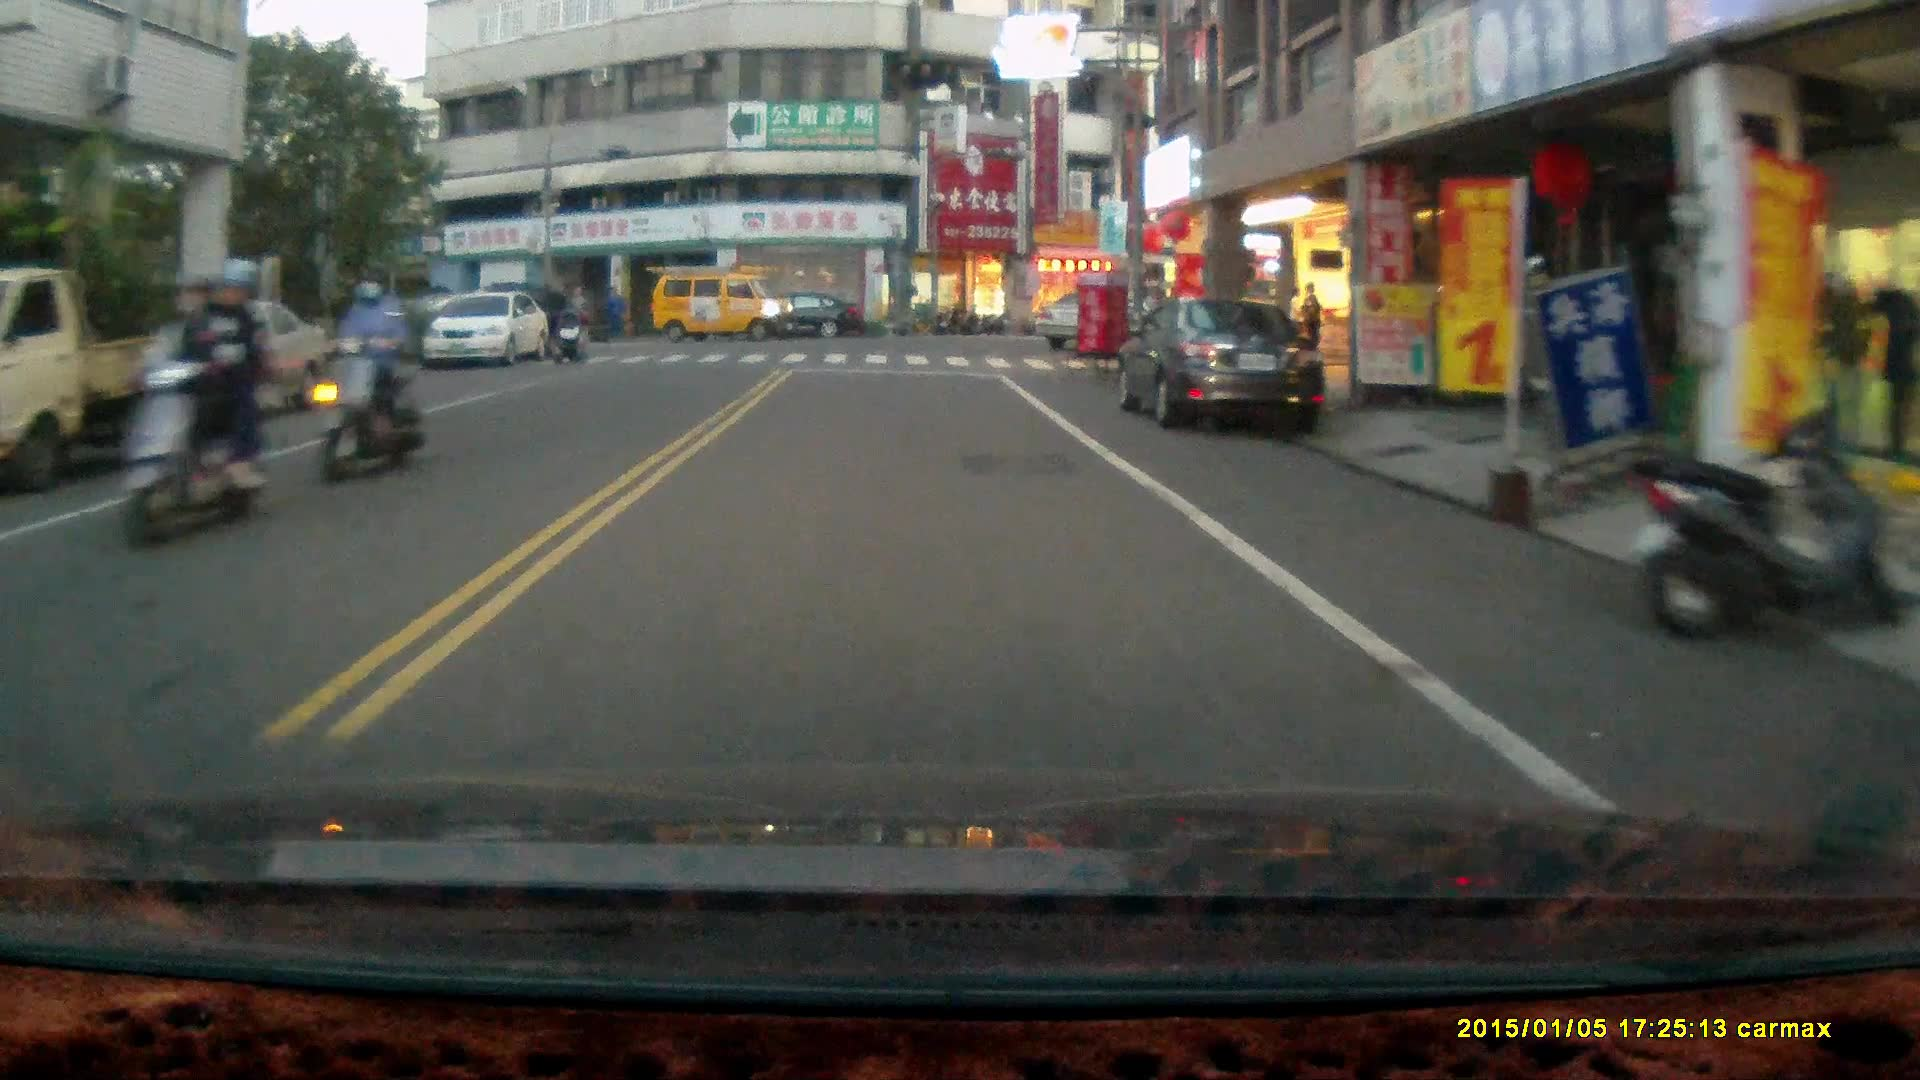pedestrian: (1300, 279, 1325, 364)
rider: (117, 252, 277, 552), (318, 255, 428, 488), (548, 305, 592, 366)
vehicle: (1, 263, 255, 484), (1114, 292, 1339, 443), (652, 261, 795, 344), (419, 288, 547, 369), (741, 288, 867, 340)
